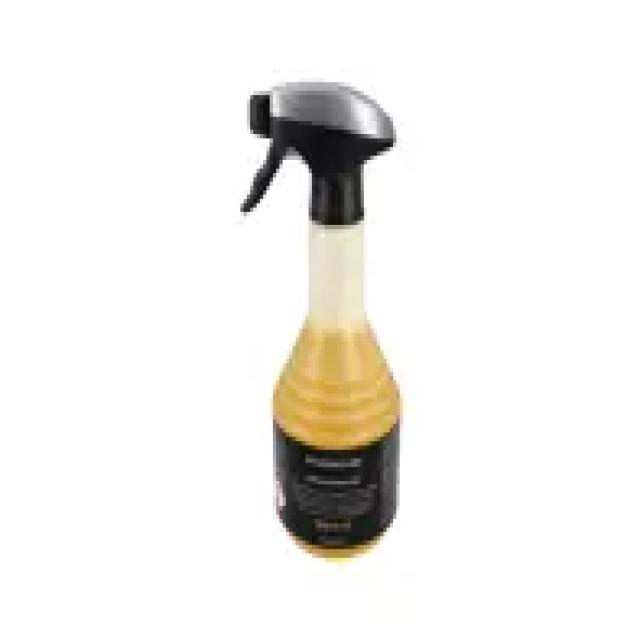winwinshield_washer: (236, 81, 404, 564)
